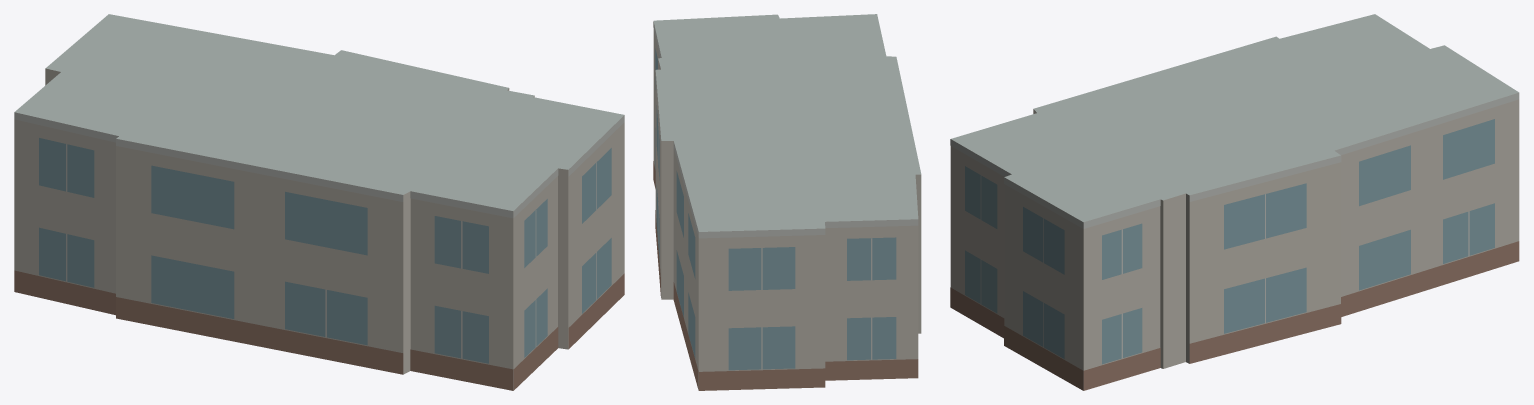
File: survey-upis-33042878.glb
3 renders of one model, left to right at view 1: azimuth 30°, elevation 25°; view 2: azimuth 150°, elevation 25°; view 3: azimuth 270°, elevation 25°, orthographic. The views are drawn at different scales.
Parts seen in each view (by area): view 1: survey-upis-33042878.tmp; view 2: survey-upis-33042878.tmp; view 3: survey-upis-33042878.tmp.
Boxes of the visible parts, box(x1,y1,x2,y2) form: survey-upis-33042878.tmp: box(14, 14, 624, 390); survey-upis-33042878.tmp: box(653, 14, 921, 390); survey-upis-33042878.tmp: box(950, 14, 1519, 390).
Bounding box in the file's own units: 16.17 × 6.1 × 18.66.
